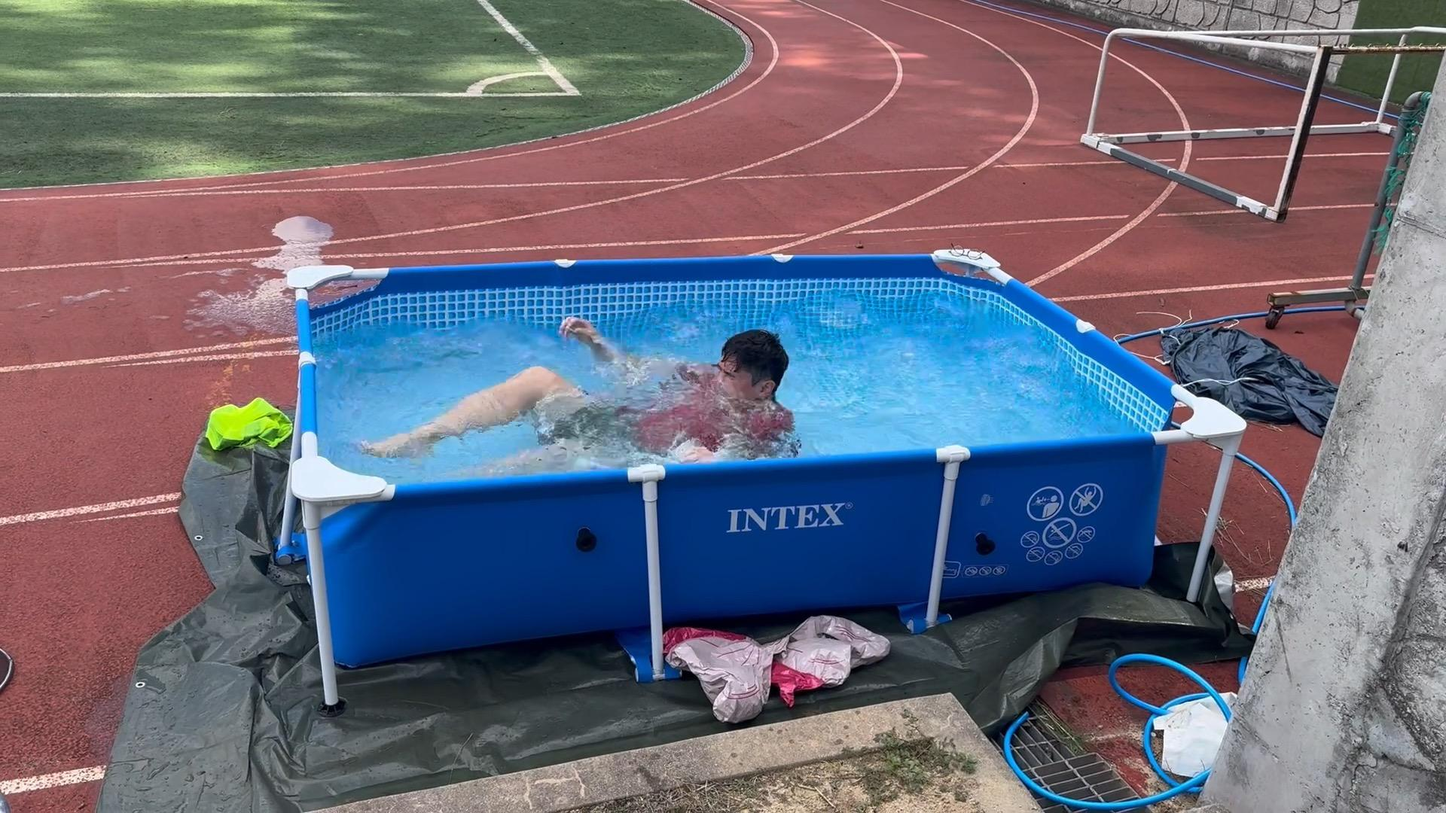Drowning: (357, 300, 817, 475)
